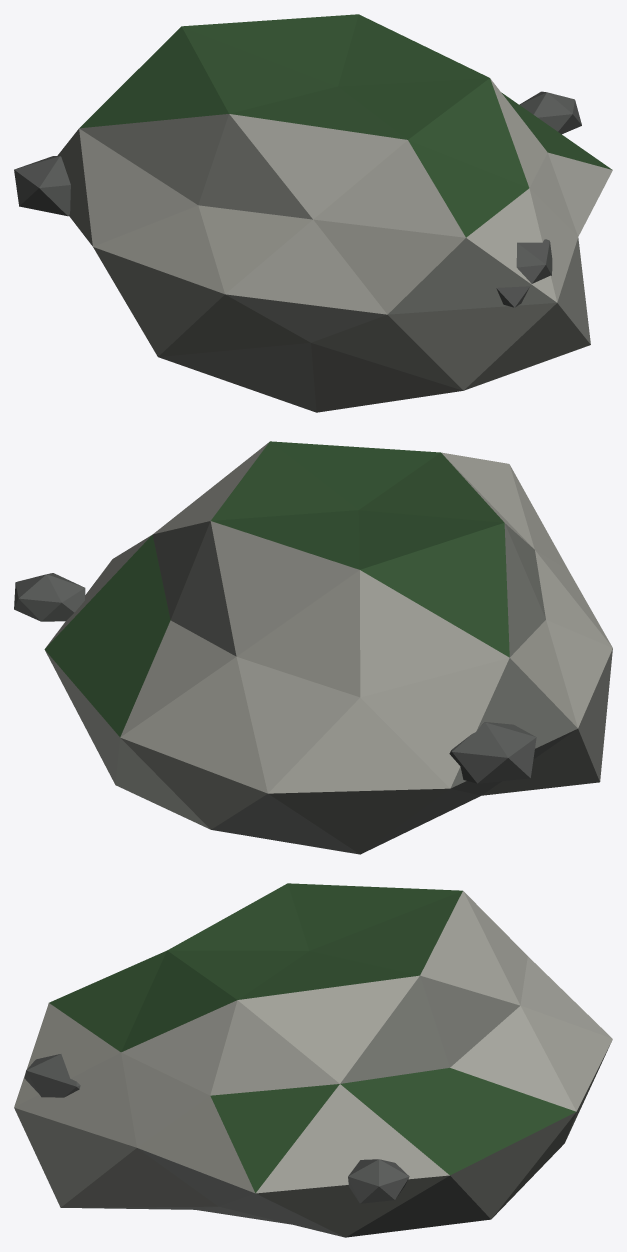
File: rock_03.glb
3 renders of one model, top to bottom at view 1: azimuth 30°, elevation 25°; view 2: azimuth 150°, elevation 25°; view 3: azimuth 270°, elevation 25°, orthographic. The views are drawn at different scales.
Visible parts, largest first — view 1: rock_03; view 2: rock_03; view 3: rock_03.
Part boxes in pixels (x1,y1,x2,y2): rock_03: [14, 14, 612, 412]; rock_03: [14, 441, 612, 854]; rock_03: [14, 883, 612, 1237].
Size of what is drawn, in the model's own units: 1.87 by 1.01 by 1.93.
Materials: 1 (1 with a texture image).
